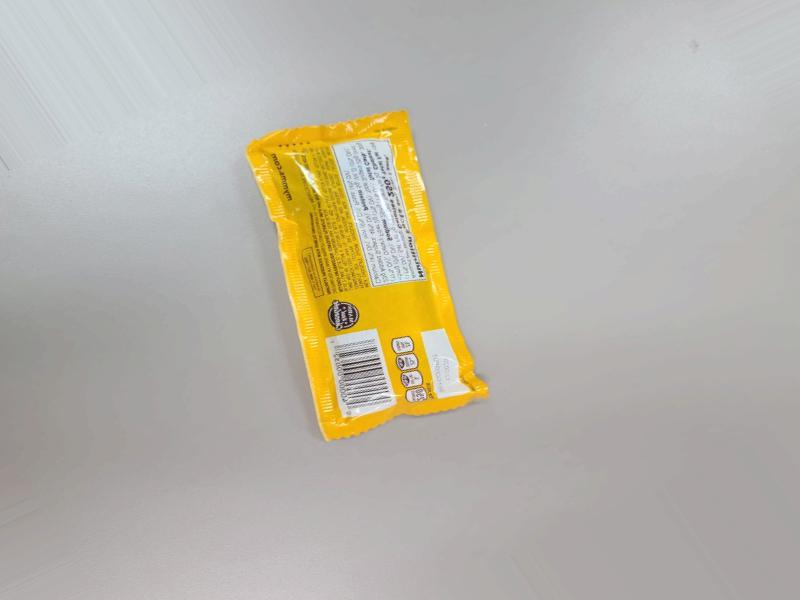m&m: (221, 78, 455, 451)
